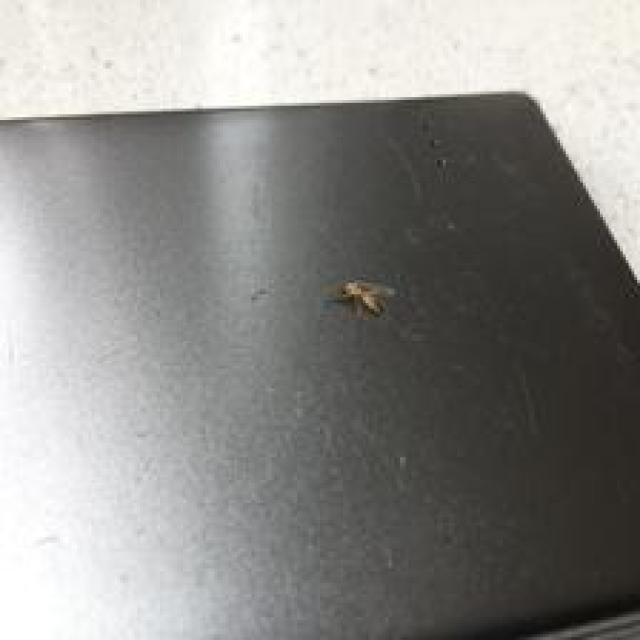Culex: (333, 277, 396, 320)
